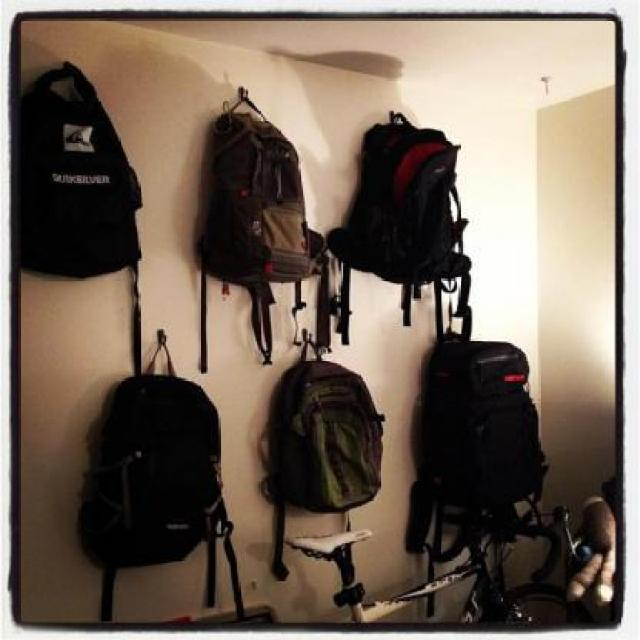backpack: (80, 369, 237, 571), (17, 58, 146, 282), (328, 120, 474, 289), (417, 328, 551, 510), (196, 111, 326, 289), (260, 355, 391, 517)
